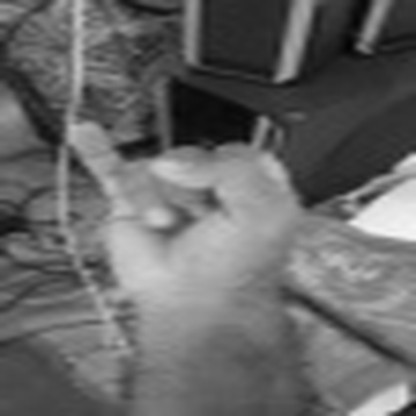i: (26, 89, 317, 297)
